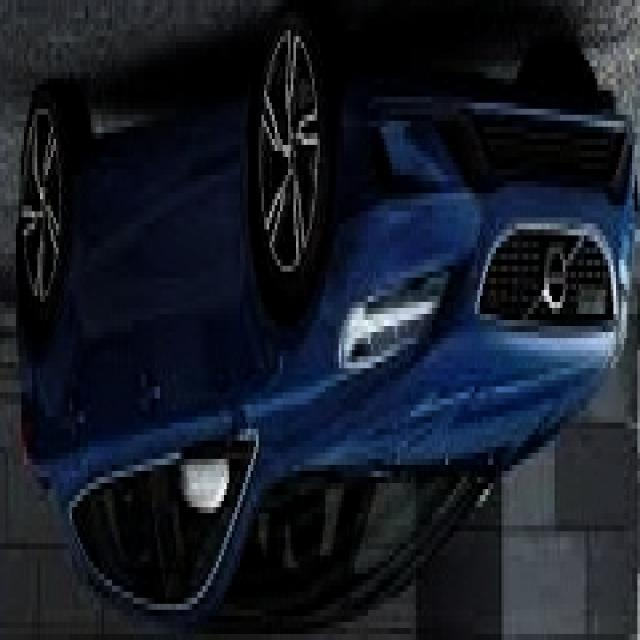blue: (19, 62, 634, 632)
